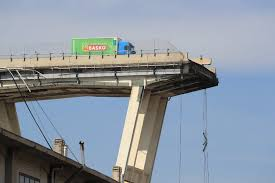bridge: (1, 49, 219, 101)
